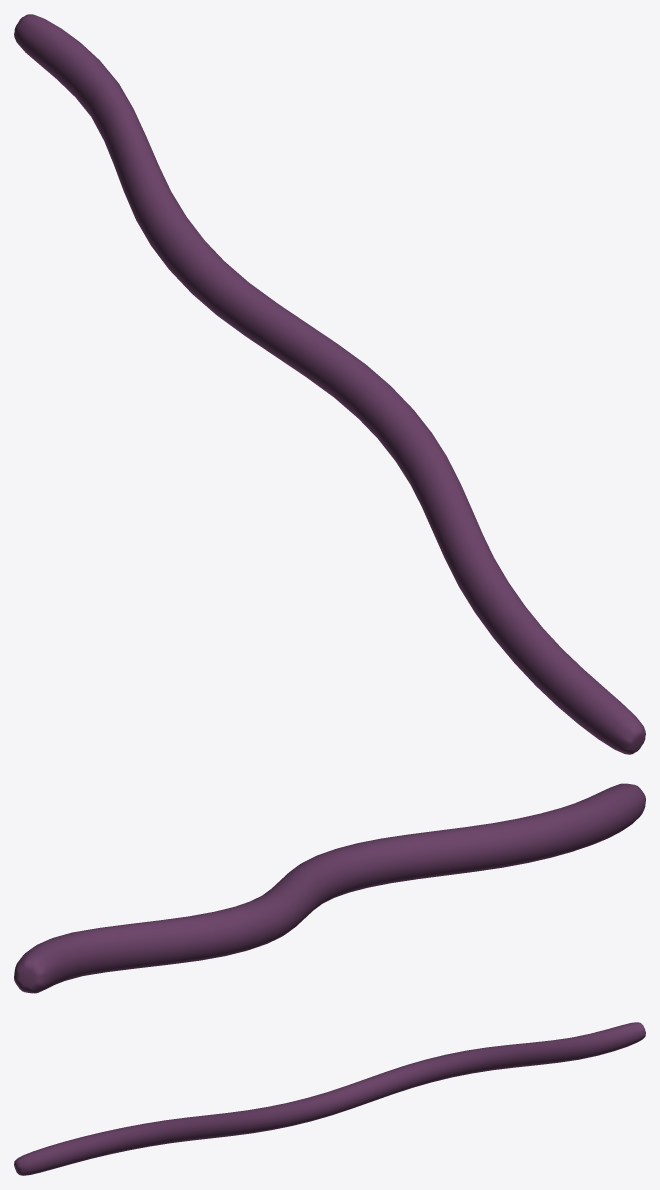
File: frame_27.obj
3 renders of one model, top to bottom at view 1: azimuth 30°, elevation 25°; view 2: azimuth 150°, elevation 25°; view 3: azimuth 270°, elevation 25°, orthographic. The views are drawn at different scales.
Parts seen in each view (by area): view 1: worm2; view 2: worm2; view 3: worm2.
Part boxes in pixels (box(x1,y1,x2,y2)): worm2: box(14, 14, 645, 754); worm2: box(14, 783, 645, 993); worm2: box(14, 1022, 645, 1175).
Size of the model in its own units: 149 by 454 by 1710.
